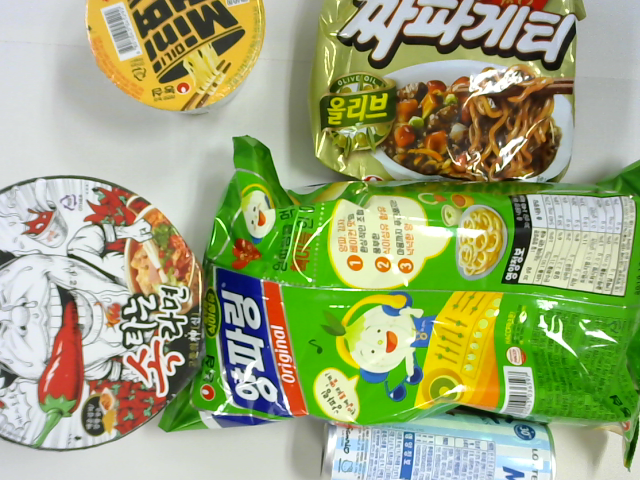HeJangsock: (1, 163, 203, 434)
Milkies_250ml: (273, 398, 559, 480)
Olive_Chapaghetti: (295, 1, 580, 171)
Oninon_Ring: (215, 173, 640, 418)
Udongmini: (90, 1, 271, 103)
